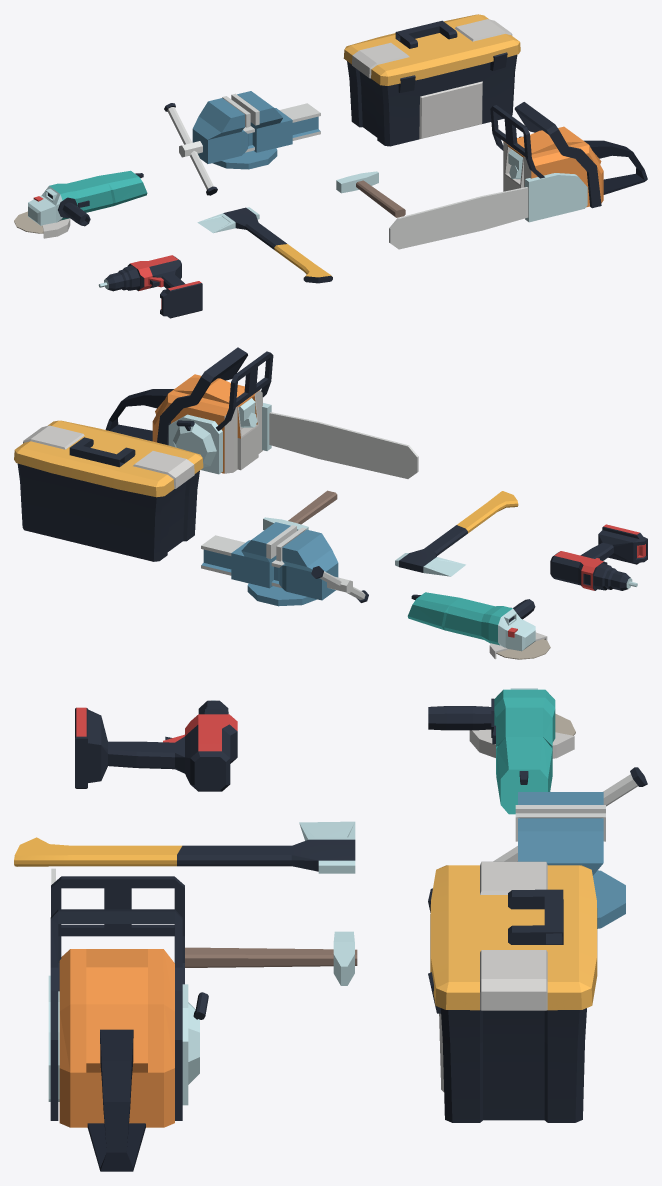
The model's file is low_poly_tools_free_pack.glb.
3 renders of one model, top to bottom at view 1: azimuth 30°, elevation 25°; view 2: azimuth 150°, elevation 25°; view 3: azimuth 270°, elevation 25°, orthographic. The views are drawn at different scales.
Parts seen in each view (by area): view 1: Box002, Box008, Box005_Material #32_0, Box006_Material #32_0, Box007_Material #32_0, Box001_Material #32_0, Box004_Material #32_0; view 2: Box002, Box008, Box005_Material #32_0, Box006_Material #32_0, Box007_Material #32_0, Box001_Material #32_0, Box004_Material #32_0; view 3: Box002, Box008, Box006_Material #32_0, Box001_Material #32_0, Box005_Material #32_0, Box007_Material #32_0, Box004_Material #32_0.
Boxes of the visible parts, bbox=[...] form: Box002: bbox=[343, 14, 520, 146]; Box008: bbox=[389, 102, 647, 249]; Box005_Material #32_0: bbox=[164, 91, 320, 195]; Box006_Material #32_0: bbox=[14, 170, 147, 238]; Box007_Material #32_0: bbox=[98, 255, 202, 318]; Box001_Material #32_0: bbox=[197, 207, 332, 283]; Box004_Material #32_0: bbox=[336, 171, 405, 217]; Box002: bbox=[14, 420, 203, 561]; Box008: bbox=[105, 347, 418, 478]; Box005_Material #32_0: bbox=[201, 522, 368, 606]; Box006_Material #32_0: bbox=[407, 592, 550, 659]; Box007_Material #32_0: bbox=[550, 524, 647, 590]; Box001_Material #32_0: bbox=[395, 491, 518, 576]; Box004_Material #32_0: bbox=[263, 490, 337, 530]; Box002: bbox=[428, 861, 597, 1122]; Box008: bbox=[48, 868, 208, 1171]; Box006_Material #32_0: bbox=[428, 688, 575, 814]; Box001_Material #32_0: bbox=[14, 821, 355, 873]; Box005_Material #32_0: bbox=[493, 767, 647, 928]; Box007_Material #32_0: bbox=[75, 700, 237, 791]; Box004_Material #32_0: bbox=[185, 931, 357, 985].
Size of the model in its own units: 131 by 26.24 by 74.5.
1 material, 1 textured.
